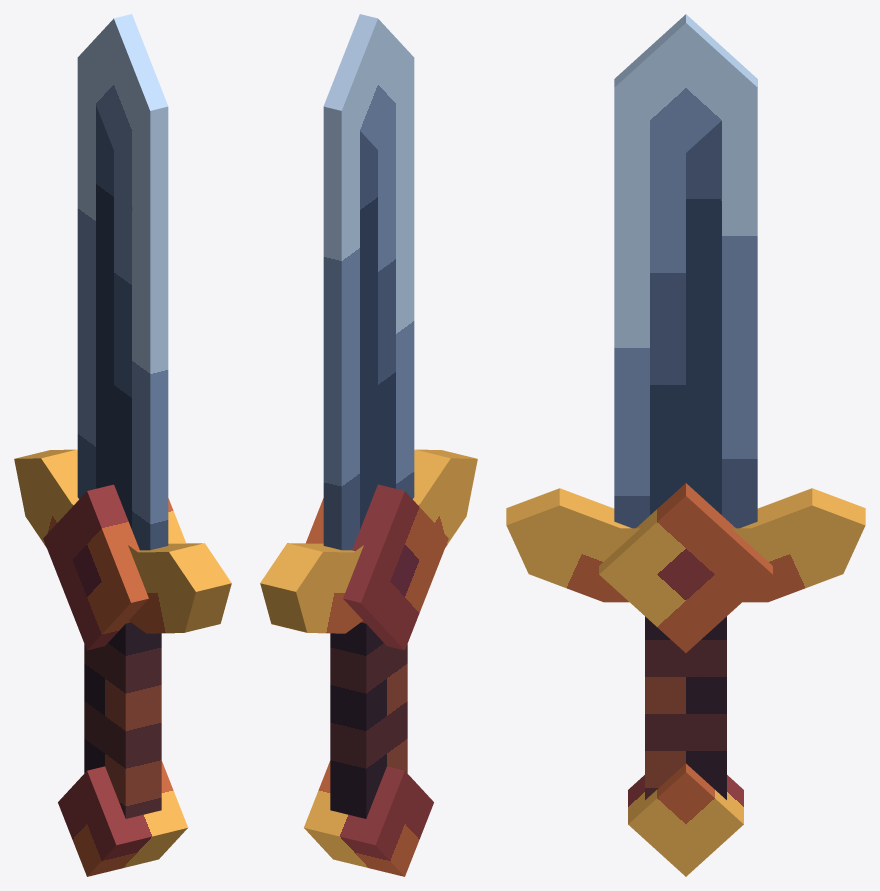
File: hero_sword.glb
3 renders of one model, left to right at view 1: azimuth 30°, elevation 25°; view 2: azimuth 150°, elevation 25°; view 3: azimuth 270°, elevation 25°, orthographic.
Parts seen in each view (by area): view 1: cube_6, cube_0, cube_3, cube_2, cube_7, cube_9, cube_5, cube_4, cube_8, cube_1; view 2: cube_6, cube_0, cube_3, cube_2, cube_7, cube_8, cube_5, cube_4, cube_9; view 3: cube_6, cube_3, cube_0, cube_7, cube_2, cube_4, cube_5, cube_8, cube_9, cube_1.
Part boxes in pixels (left/top/right/bottom): cube_6: left=77, top=59, right=168, bottom=550; cube_0: left=84, top=622, right=161, bottom=818; cube_3: left=43, top=484, right=186, bottom=650; cube_2: left=58, top=761, right=187, bottom=876; cube_7: left=77, top=14, right=168, bottom=149; cube_9: left=162, top=543, right=231, bottom=632; cube_5: left=25, top=449, right=78, bottom=547; cube_4: left=133, top=543, right=202, bottom=633; cube_8: left=14, top=449, right=75, bottom=515; cube_1: left=63, top=498, right=146, bottom=632; cube_6: left=323, top=58, right=414, bottom=550; cube_0: left=330, top=622, right=407, bottom=818; cube_3: left=306, top=484, right=448, bottom=650; cube_2: left=304, top=761, right=433, bottom=876; cube_7: left=323, top=14, right=414, bottom=149; cube_8: left=260, top=543, right=326, bottom=632; cube_5: left=271, top=543, right=360, bottom=633; cube_4: left=413, top=449, right=466, bottom=547; cube_9: left=416, top=449, right=477, bottom=515; cube_6: left=614, top=88, right=757, bottom=528; cube_3: left=599, top=483, right=772, bottom=652; cube_0: left=645, top=616, right=726, bottom=799; cube_7: left=614, top=14, right=757, bottom=152; cube_2: left=628, top=763, right=743, bottom=876; cube_4: left=528, top=488, right=631, bottom=602; cube_5: left=740, top=488, right=843, bottom=602; cube_8: left=790, top=488, right=865, bottom=573; cube_9: left=506, top=488, right=568, bottom=573; cube_1: left=604, top=528, right=767, bottom=602.
Bounding box in the file's own units: 0.125 × 1.42 × 0.5481.
1 material, 1 textured.
